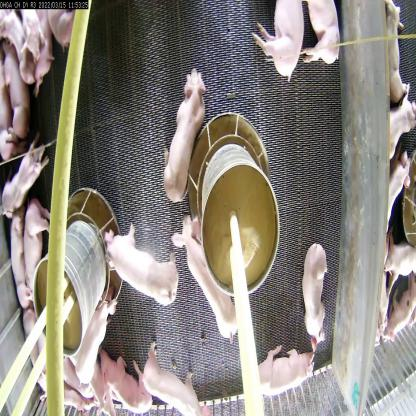Pig: (176, 198, 239, 341), (96, 221, 184, 316), (152, 70, 210, 190), (137, 353, 216, 416), (98, 344, 161, 415), (249, 348, 313, 416), (13, 5, 62, 90), (254, 0, 300, 89), (19, 199, 53, 319), (0, 1, 29, 137), (0, 144, 44, 229), (304, 257, 333, 350), (308, 4, 342, 71)
